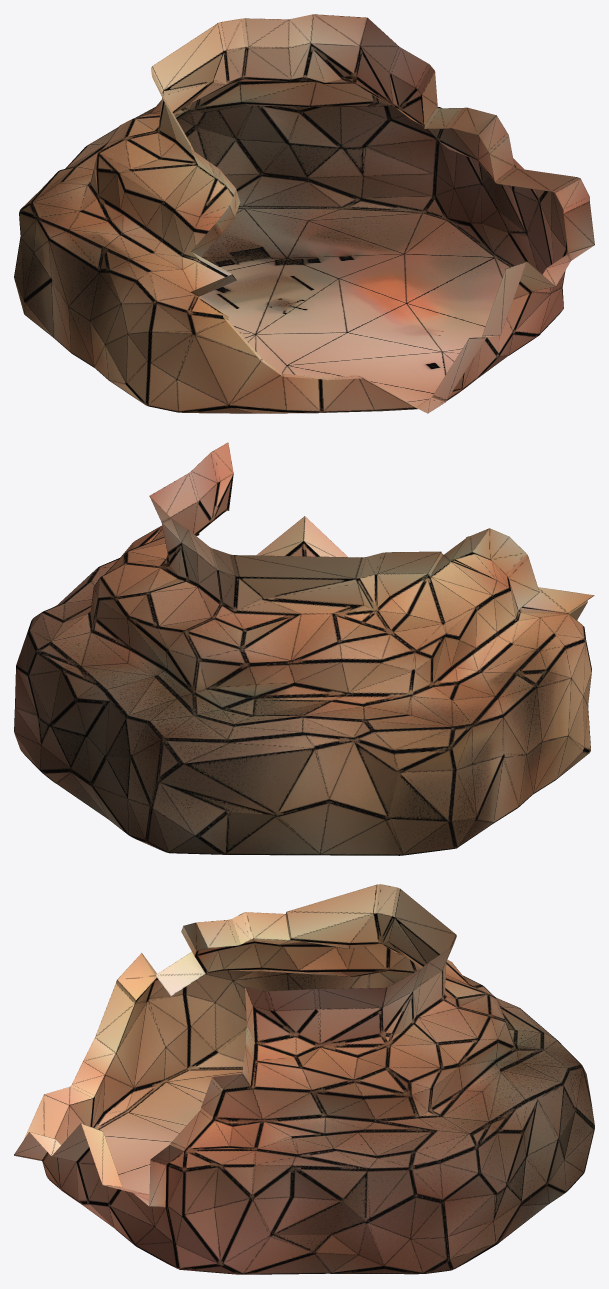
The model's file is structure.glb.
3 renders of one model, top to bottom at view 1: azimuth 30°, elevation 25°; view 2: azimuth 150°, elevation 25°; view 3: azimuth 270°, elevation 25°, orthographic. The views are drawn at different scales.
Visible parts, largest first — view 1: RoomWithWindows.001; view 2: RoomWithWindows.001; view 3: RoomWithWindows.001.
Boxes of the visible parts, x1,y1,x2,y2 form: RoomWithWindows.001: (14, 14, 594, 413); RoomWithWindows.001: (14, 442, 594, 855); RoomWithWindows.001: (14, 884, 594, 1274).
Bounding box in the file's own units: 12.83 × 6.8 × 14.77.
Materials: 1 (1 with a texture image).
